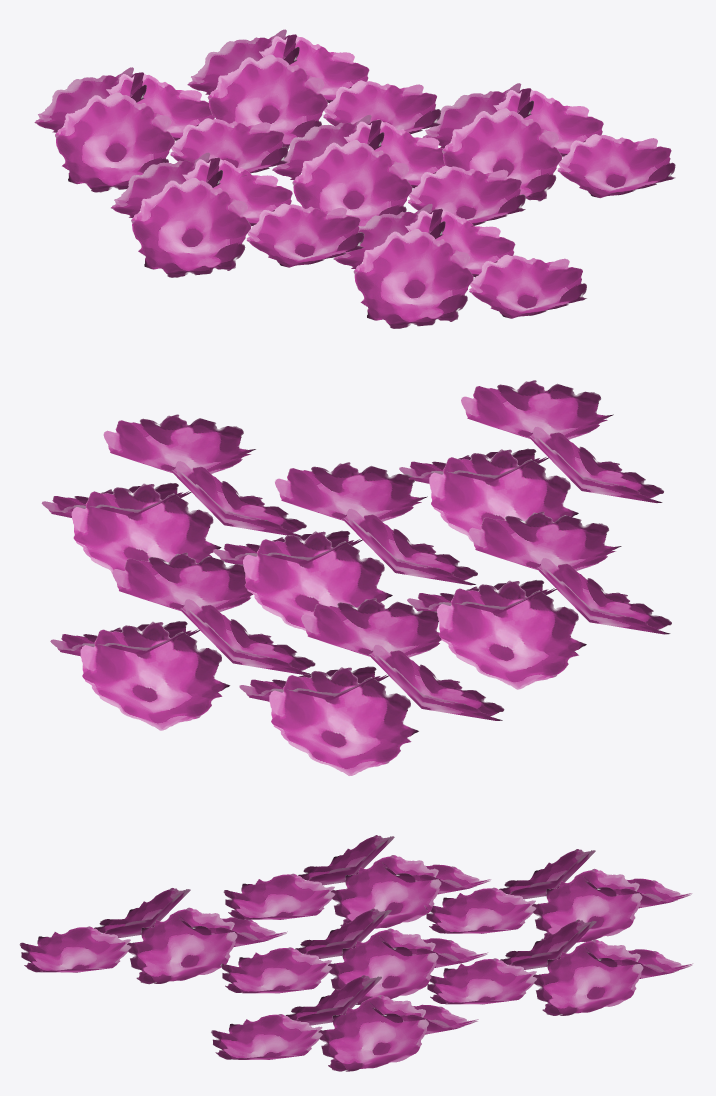
The model's file is PinkFlowers_Small.fbx.
3 renders of one model, top to bottom at view 1: azimuth 30°, elevation 25°; view 2: azimuth 150°, elevation 25°; view 3: azimuth 270°, elevation 25°, orthographic. The views are drawn at different scales.
Parts seen in each view (by area): view 1: PinkFlowers7; view 2: PinkFlowers7; view 3: PinkFlowers7.
Part boxes in pixels (box(x1,y1,x2,y2)): PinkFlowers7: box(34, 29, 675, 328); PinkFlowers7: box(41, 380, 671, 775); PinkFlowers7: box(19, 835, 693, 1071).
Bounding box in the file's own units: 0.3896 × 0.0461 × 0.4819.
